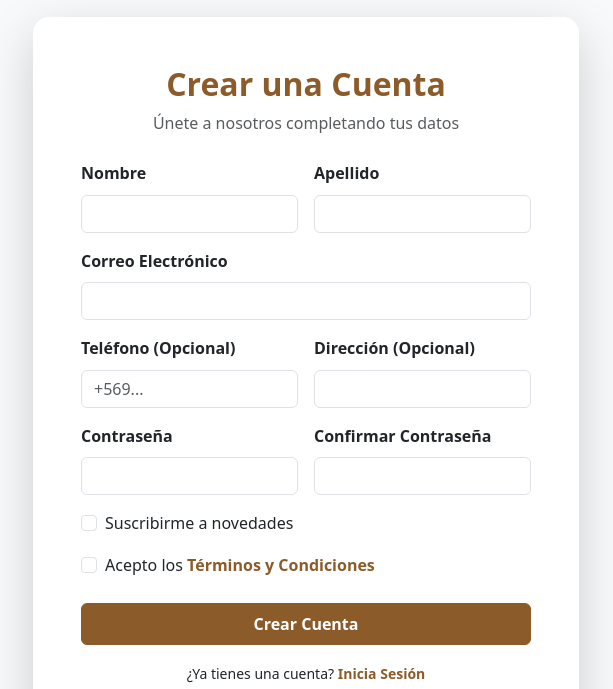
Scenario: Registro Component › muestra errores de validación si se envía el formulario vacío
Click the button "Crear Cuenta".
click(306, 624)  # box [81,602,531,644]
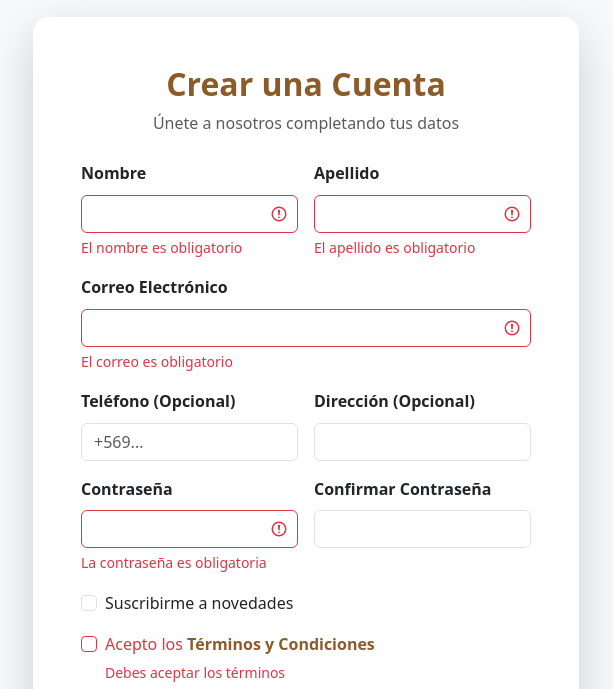
expect the text "El nombre es obligatorio" is shown: met, box [81,238,242,257]
expect the text "El apellido es obligatorio" is shown: met, box [314,238,475,257]
expect the text "El correo es obligatorio" is shown: met, box [81,352,233,371]
